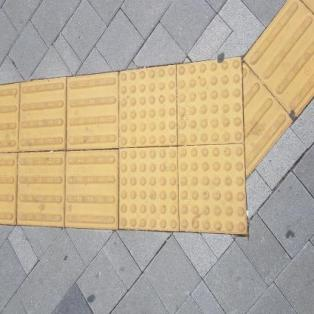Podoctatil: (0, 54, 253, 245), (240, 0, 313, 182)
